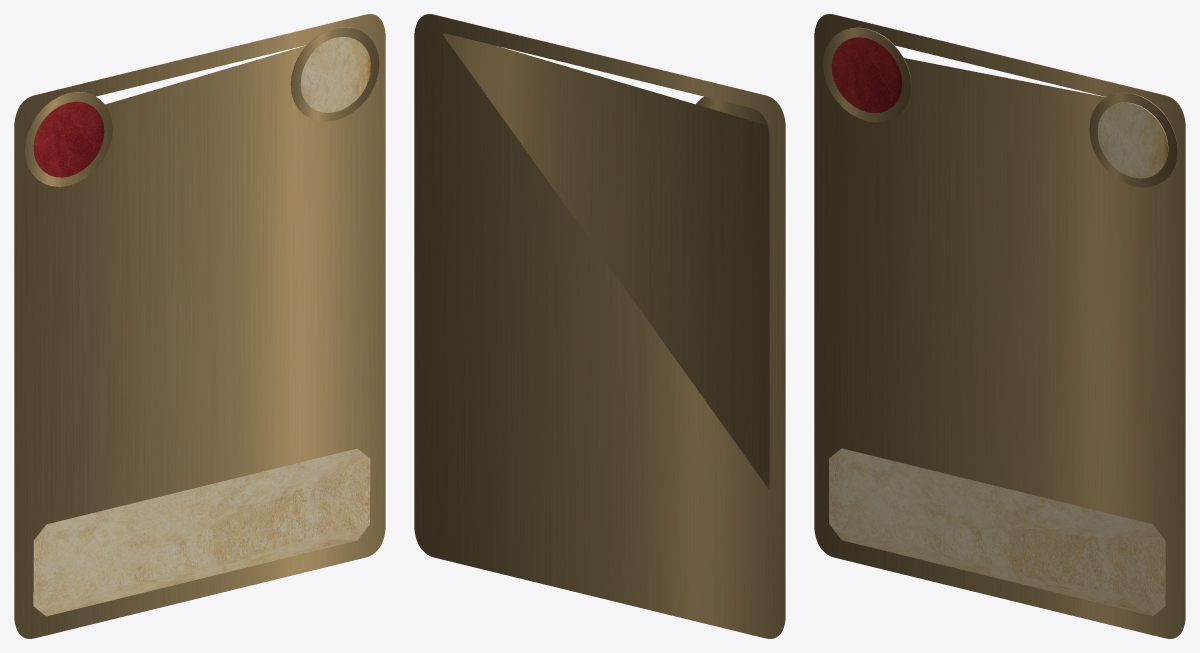
The model's file is cardFrame.fbx.
3 views of the same model, side by side, from view 1: azimuth 30°, elevation 25°; view 2: azimuth 150°, elevation 25°; view 3: azimuth 330°, elevation 25° (orthographic).
Visible parts, largest first — view 1: asset_base_id:af82cbd1-93c7-4bc7-bdf6-b16300a835f5 asset_ty.; view 2: asset_base_id:af82cbd1-93c7-4bc7-bdf6-b16300a835f5 asset_ty.; view 3: asset_base_id:af82cbd1-93c7-4bc7-bdf6-b16300a835f5 asset_ty..
Boxes of the visible parts, x1=… form: asset_base_id:af82cbd1-93c7-4bc7-bdf6-b16300a835f5 asset_ty.: x1=14, y1=14, x2=385, y2=638; asset_base_id:af82cbd1-93c7-4bc7-bdf6-b16300a835f5 asset_ty.: x1=414, y1=14, x2=785, y2=638; asset_base_id:af82cbd1-93c7-4bc7-bdf6-b16300a835f5 asset_ty.: x1=814, y1=14, x2=1185, y2=638.
Bounding box in the file's own units: 63 × 88 × 0.7653.
Materials: 5 (5 with a texture image).
